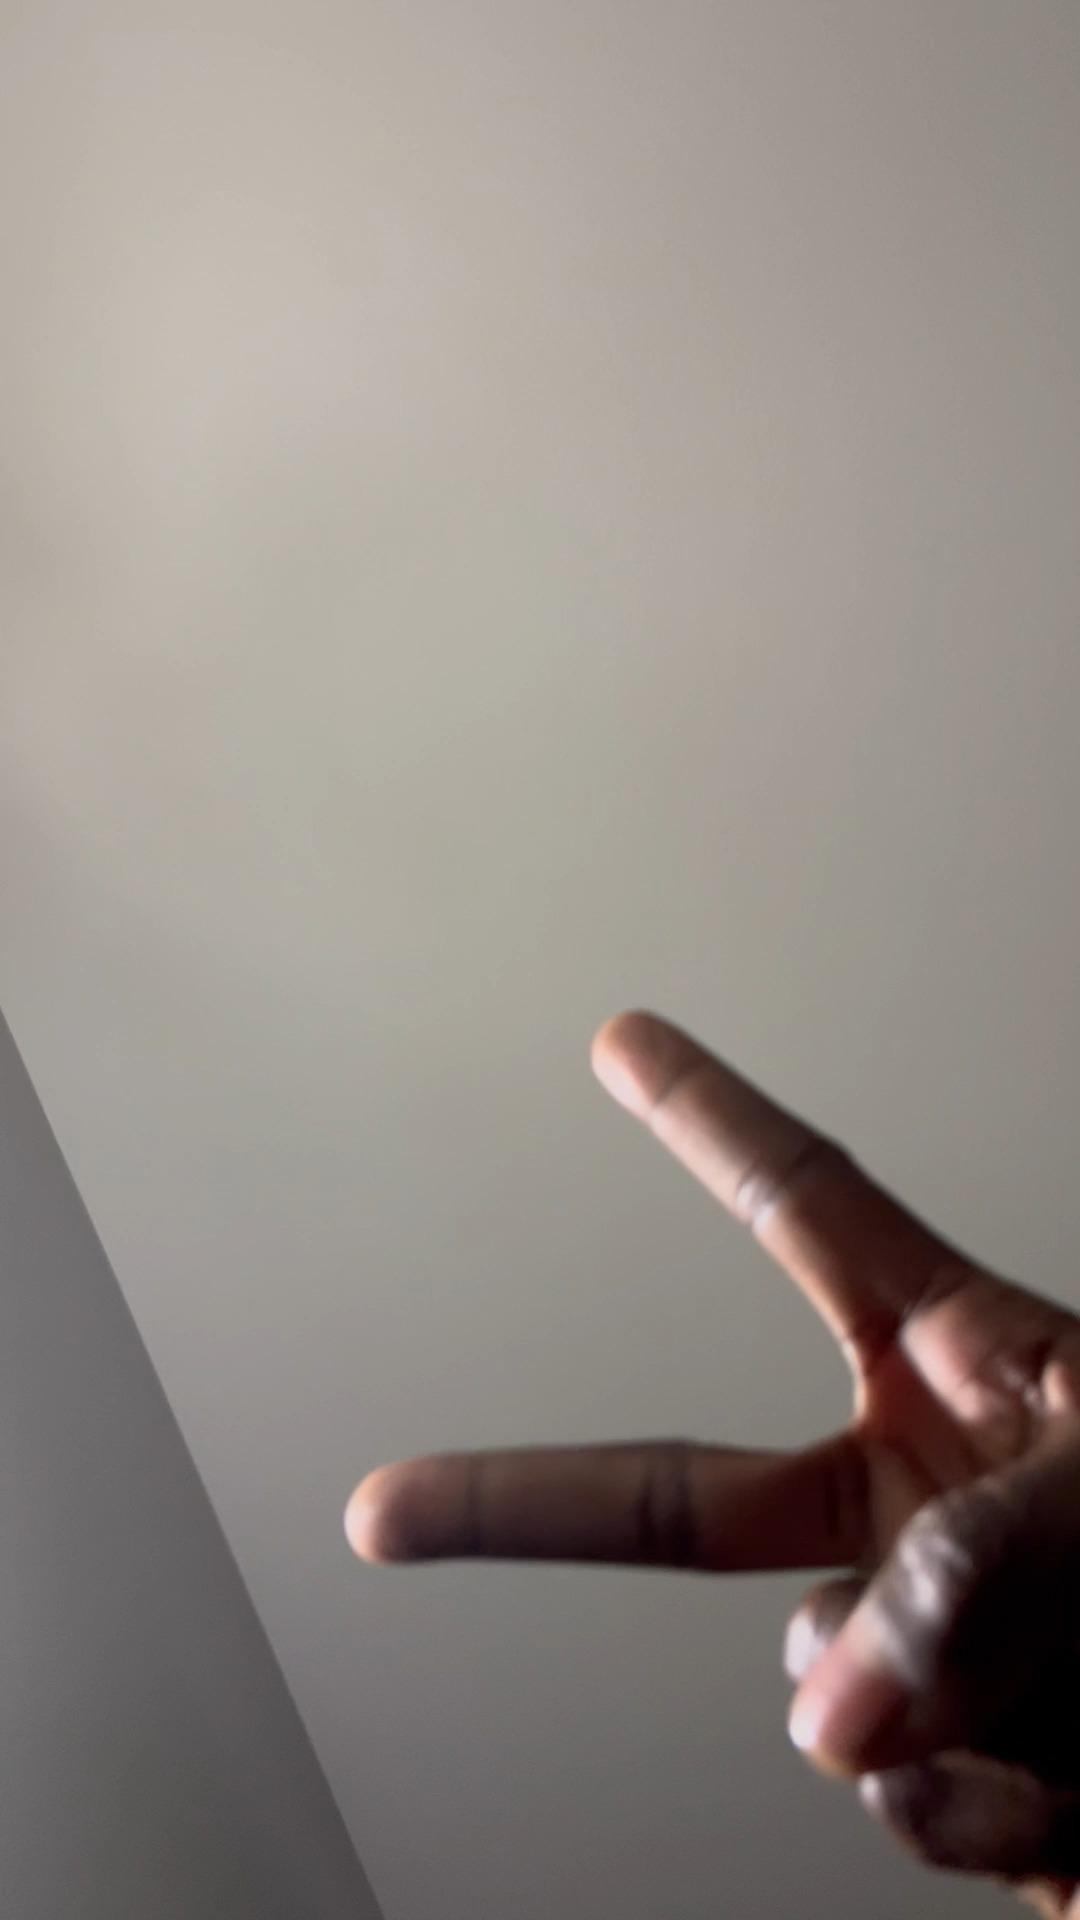Scissors: (336, 997, 1080, 1896)
